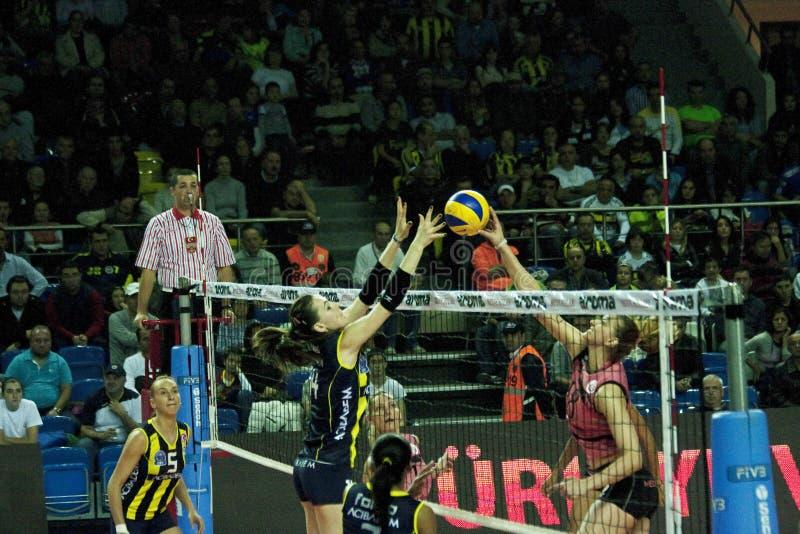ballon_volley: (444, 188, 490, 238)
